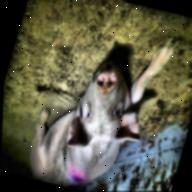boar: (21, 14, 183, 192)
